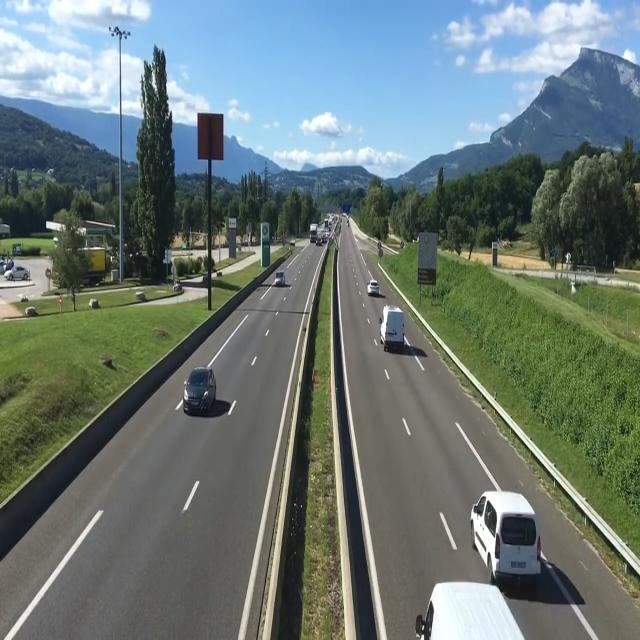Car: (177, 352, 224, 416), (362, 275, 382, 299), (272, 269, 288, 288)
Truck: (307, 220, 321, 241)
Van: (453, 484, 556, 580), (422, 579, 520, 640), (376, 304, 409, 352)
